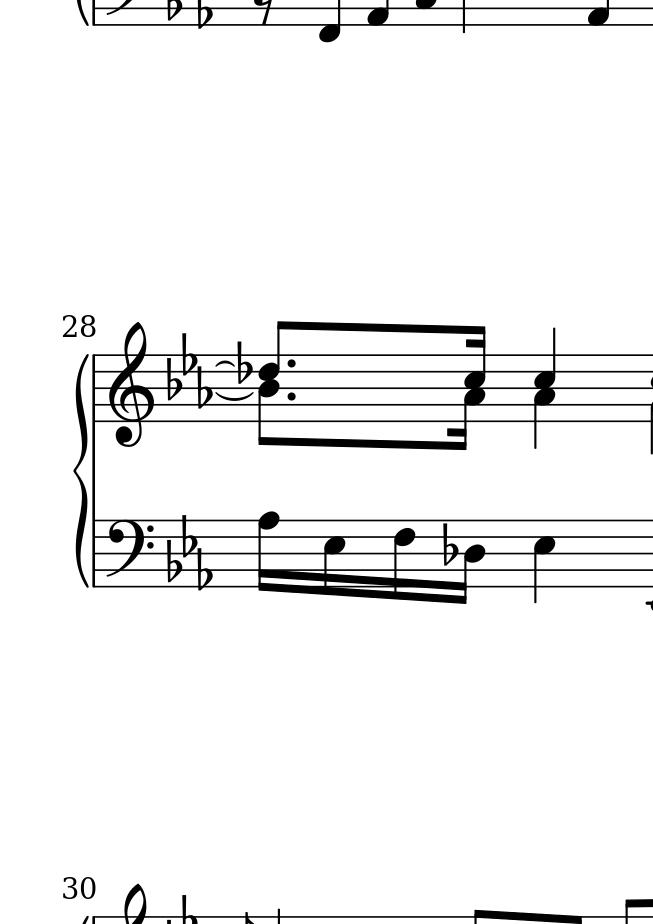16_3_5: (450, 324, 488, 453)
16_4: (455, 518, 486, 606)
16_5: (321, 518, 346, 599)
16_6: (391, 517, 416, 603)
16_8: (255, 511, 280, 594)
2: (60, 314, 80, 339)
3: (62, 875, 78, 900)
4_3_5: (531, 326, 558, 451)
4_5: (532, 518, 556, 606)
8_4_6: (257, 321, 288, 446)
Brace: (73, 353, 90, 584)
E_F: (166, 332, 213, 409), (166, 515, 211, 592)
Fclef: (103, 518, 154, 589)
Flat: (234, 339, 253, 386), (439, 521, 458, 568)
Gclef: (106, 321, 153, 448)
Single_barline: (89, 354, 102, 422), (89, 520, 102, 585)
Slur: (214, 388, 259, 402), (212, 358, 233, 369)
dot: (283, 357, 298, 371), (284, 388, 298, 403)
